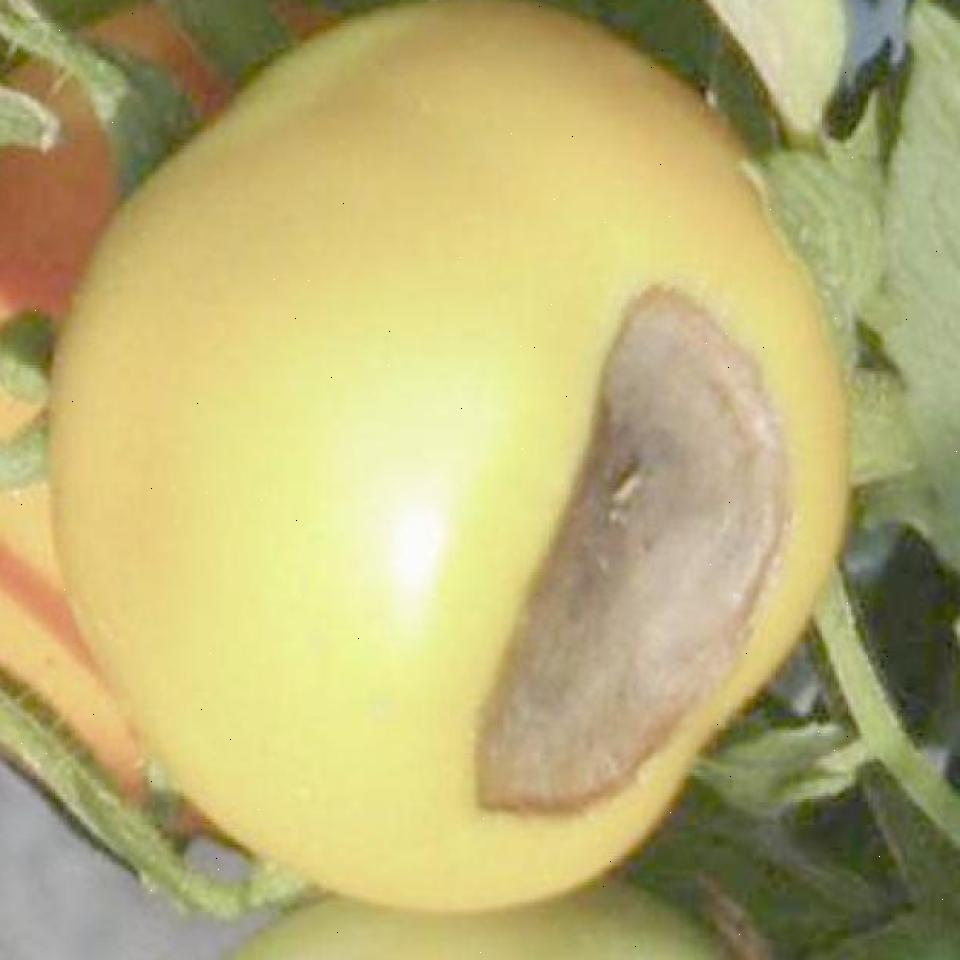Blossom_end_rot: (443, 251, 827, 844)
